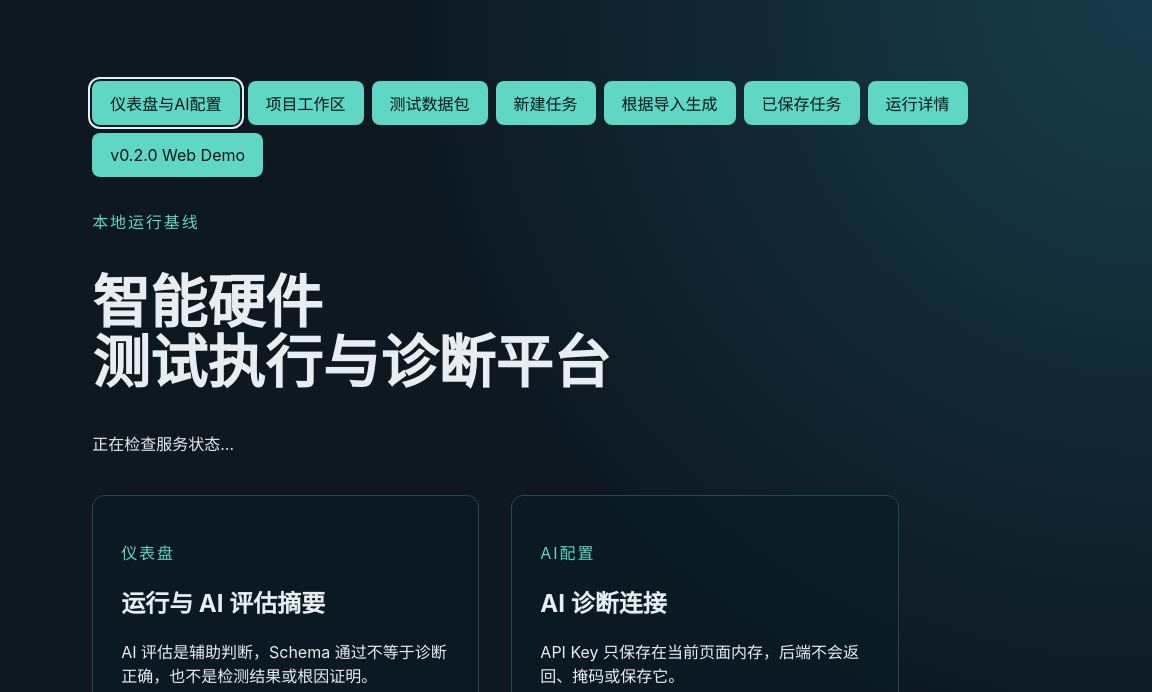
页面提供可编辑的任务名称建议
This screenshot has width=1152, height=692.
Click the button "新建任务" at (546, 103), box [496,81,596,125]
(page scrolled)
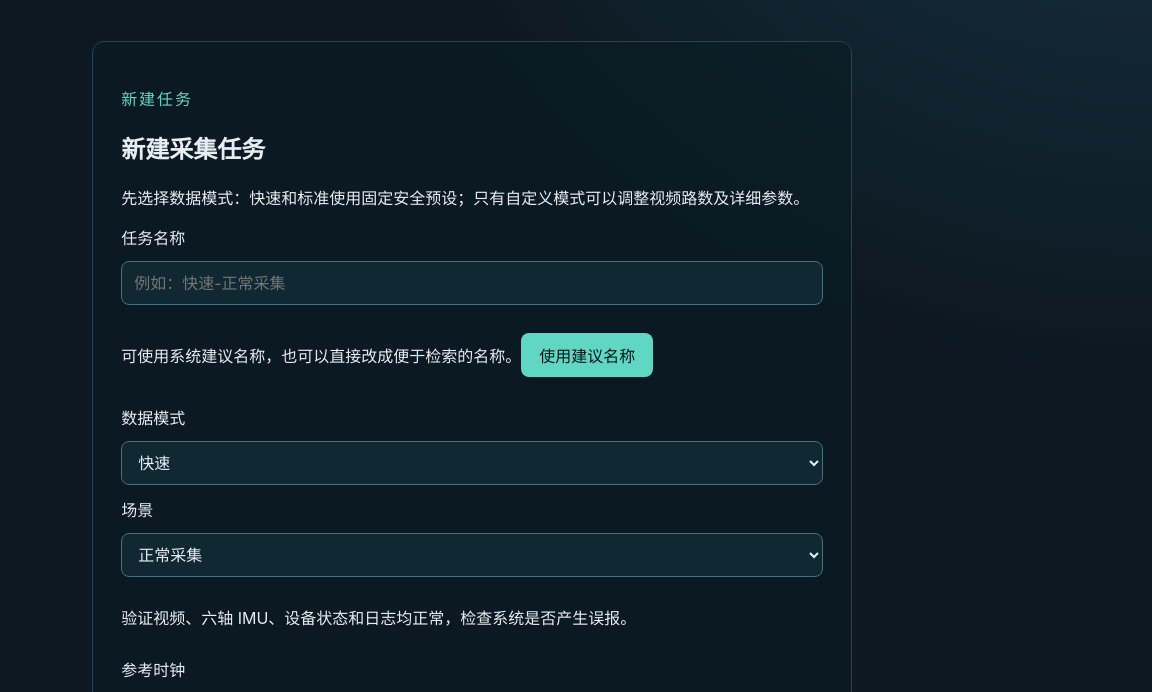
Click the button "使用建议名称" at (587, 355), box [521,333,653,377]
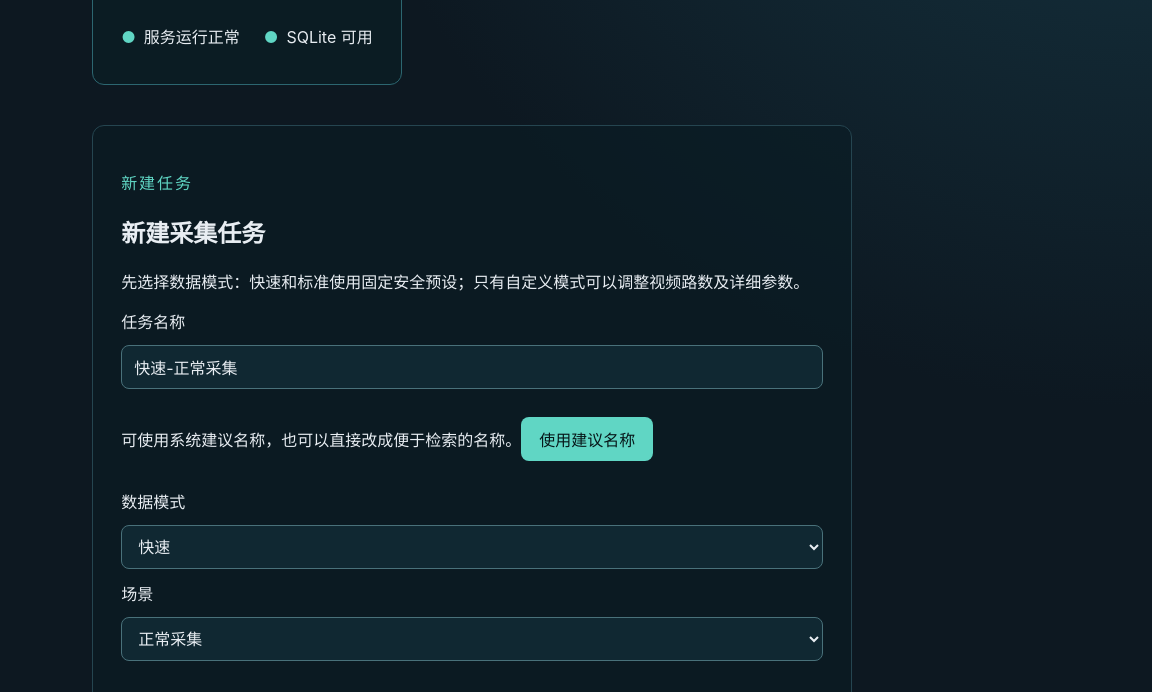
Now the field labelled "任务名称" holds "快速-正常采集", box [121,345,823,389]
